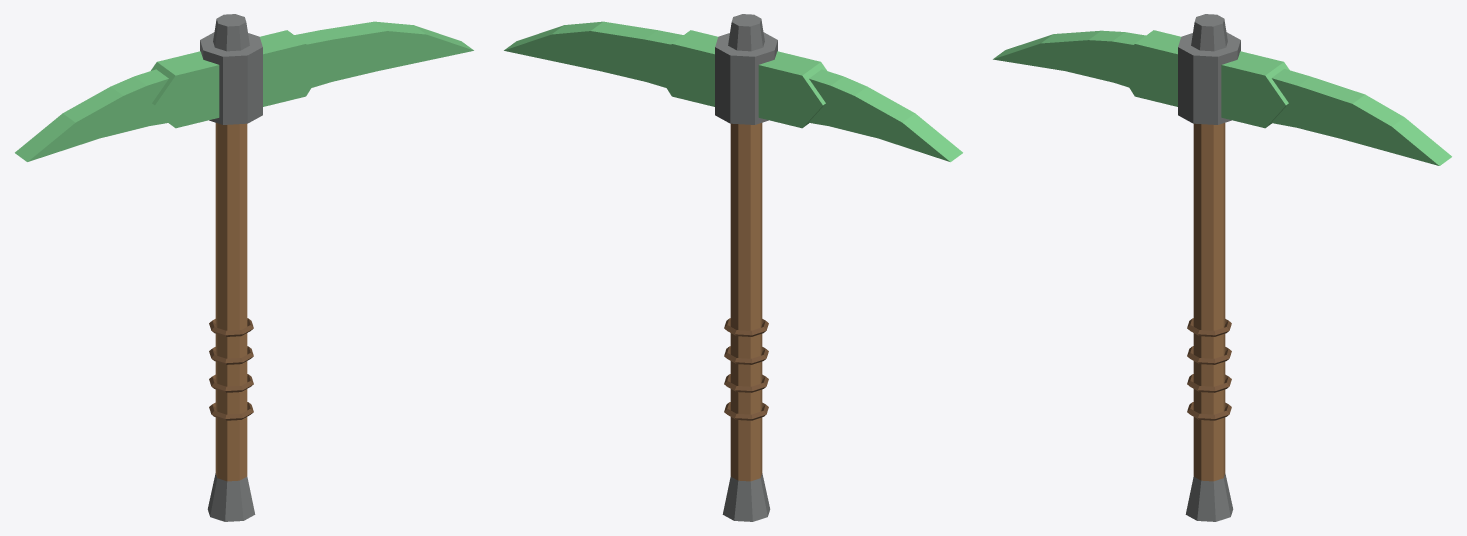
The model's file is t3_pickaxe.glb.
3 renders of one model, left to right at view 1: azimuth 30°, elevation 25°; view 2: azimuth 150°, elevation 25°; view 3: azimuth 330°, elevation 25°, orthographic.
Parts seen in each view (by area): view 1: WoodHandle, HeadCore, RightPickHead, LeftPickHead, HeadSocket, BottomPommel, TopCap; view 2: WoodHandle, HeadCore, RightPickHead, LeftPickHead, HeadSocket, BottomPommel, TopCap; view 3: WoodHandle, RightPickHead, HeadCore, LeftPickHead, HeadSocket, BottomPommel, TopCap.
Part boxes in pixels (x1,y1,x2,y2): WoodHandle: (215, 123, 247, 481); HeadCore: (151, 30, 326, 128); RightPickHead: (294, 21, 473, 87); LeftPickHead: (15, 69, 168, 161); HeadSocket: (200, 32, 262, 124); BottomPommel: (207, 473, 255, 521); TopCap: (213, 14, 249, 51); WoodHandle: (730, 123, 762, 481); HeadCore: (651, 30, 826, 128); RightPickHead: (504, 21, 683, 87); LeftPickHead: (809, 69, 962, 161); HeadSocket: (715, 32, 777, 124); BottomPommel: (722, 473, 770, 521); TopCap: (728, 14, 764, 51); WoodHandle: (1193, 123, 1225, 481); RightPickHead: (1271, 69, 1451, 165); HeadCore: (1114, 30, 1289, 128); LeftPickHead: (993, 30, 1145, 87); HeadSocket: (1178, 32, 1240, 124); BottomPommel: (1185, 473, 1233, 521); TopCap: (1191, 14, 1227, 51).
Bounding box in the file's own units: 1.51 × 1.59 × 0.19.
